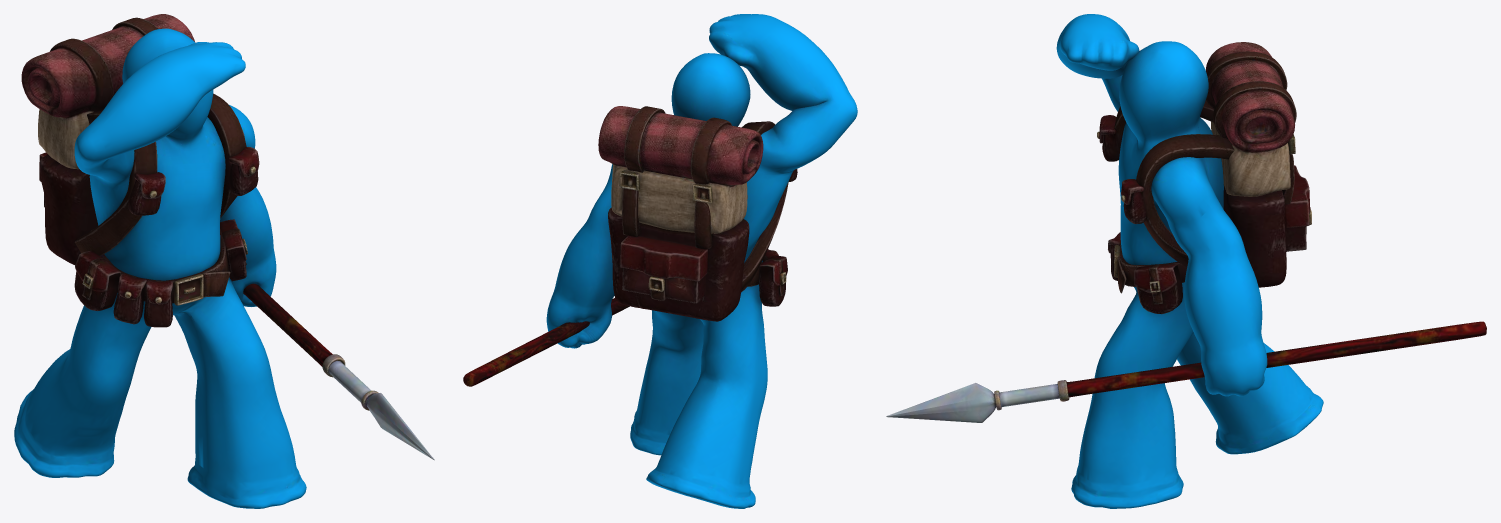
Rendered from MZ4250 - Plasmoid Explorer (Blue).glb.
The picture shows the model from 3 angles, left to right: view 1: azimuth 30°, elevation 25°; view 2: azimuth 150°, elevation 25°; view 3: azimuth 270°, elevation 25°; orthographic projection. The views are drawn at different scales.
Visible parts, largest first — view 1: Plasmoid Explorer.001; view 2: Plasmoid Explorer.001; view 3: Plasmoid Explorer.001.
Part boxes in pixels (box(x1,y1,x2,y2)): Plasmoid Explorer.001: box(14, 14, 434, 508); Plasmoid Explorer.001: box(463, 14, 857, 508); Plasmoid Explorer.001: box(886, 14, 1486, 508).
Bounding box in the file's own units: 94.87 × 160 × 200.
1 material, 1 textured.
